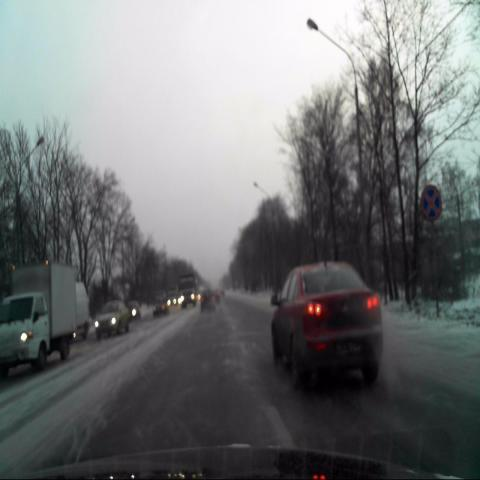3_27: (420, 184, 442, 222)
